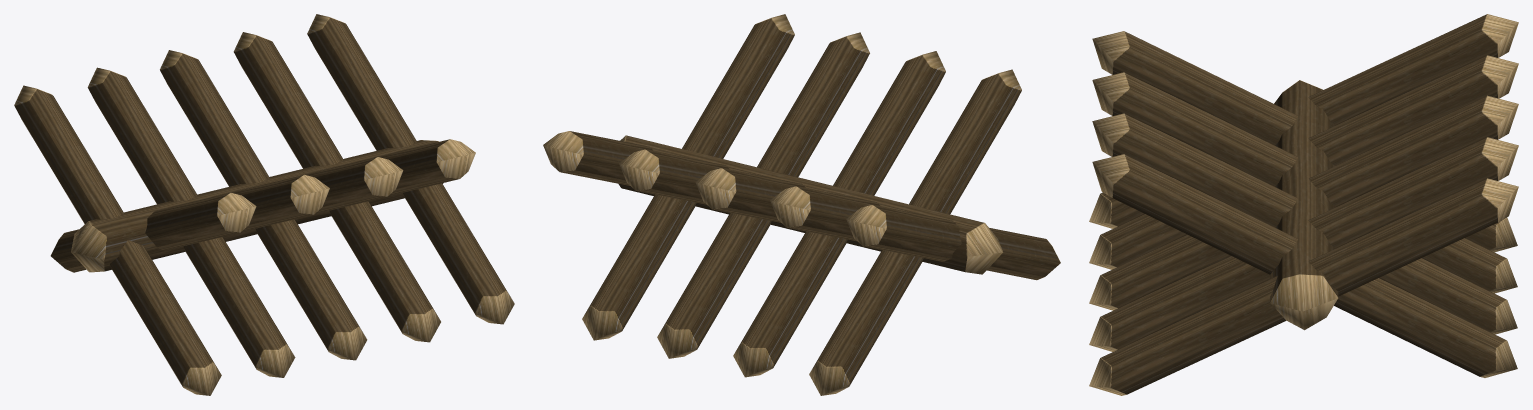
The model's file is barricade.fbx.
3 views of the same model, side by side, from view 1: azimuth 30°, elevation 25°; view 2: azimuth 150°, elevation 25°; view 3: azimuth 270°, elevation 25° (orthographic). The views are drawn at different scales.
Parts seen in each view (by area): view 1: pCube8, pCube1, pCube5, pCube4, pCube7, pCube10, pCube9, pCube3, pCube2, pCube6; view 2: pCube9, pCube2, pCube6, pCube3, pCube8, pCube10, pCube5, pCube7, pCube4, pCube1; view 3: pCube4, pCube6, pCube5, pCube1, pCube3, pCube2, pCube7, pCube10, pCube8, pCube9.
Part boxes in pixels (box(x1,y1,x2,y2)): pCube8: box(14, 85, 221, 395); pCube1: box(160, 50, 367, 360); pCube5: box(233, 32, 440, 342); pCube4: box(307, 14, 514, 324); pCube7: box(87, 67, 295, 377); pCube10: box(71, 140, 443, 272); pCube9: box(50, 192, 256, 272); pCube3: box(302, 157, 403, 213); pCube2: box(228, 174, 329, 231); pCube6: box(374, 139, 475, 196); pCube9: box(809, 69, 1021, 395); pCube2: box(733, 51, 945, 377); pCube6: box(582, 14, 794, 340); pCube3: box(657, 32, 869, 358); pCube8: box(846, 205, 1060, 280); pCube10: box(618, 135, 1003, 274); pCube5: box(619, 149, 729, 204); pCube7: box(770, 186, 880, 241); pCube4: box(543, 131, 653, 185); pCube1: box(695, 168, 805, 222); pCube4: box(1089, 178, 1518, 395); pCube6: box(1092, 154, 1517, 377); pCube5: box(1089, 137, 1518, 351); pCube1: box(1089, 95, 1518, 310); pCube3: box(1092, 113, 1517, 334); pCube2: box(1092, 72, 1517, 293); pCube7: box(1089, 55, 1518, 269); pCube10: box(1270, 80, 1338, 330); pCube8: box(1089, 14, 1518, 228); pCube9: box(1092, 31, 1517, 252).
Bounding box in the file's own units: 18.04 × 8.72 × 15.17.
